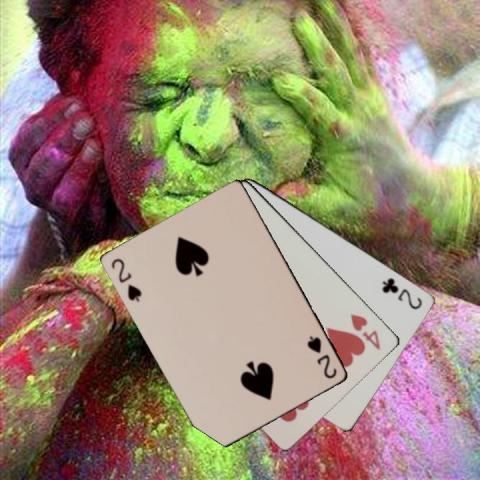2c: (379, 274, 424, 311)
2s: (304, 332, 339, 380), (109, 255, 144, 303)
4h: (348, 311, 382, 351)
